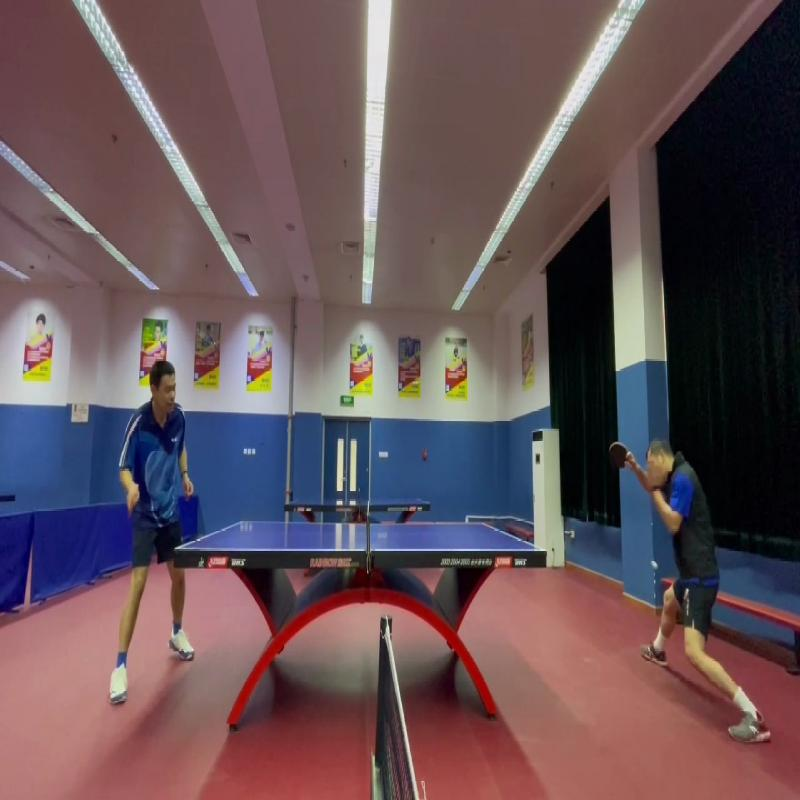bats: (120, 473, 150, 531)
